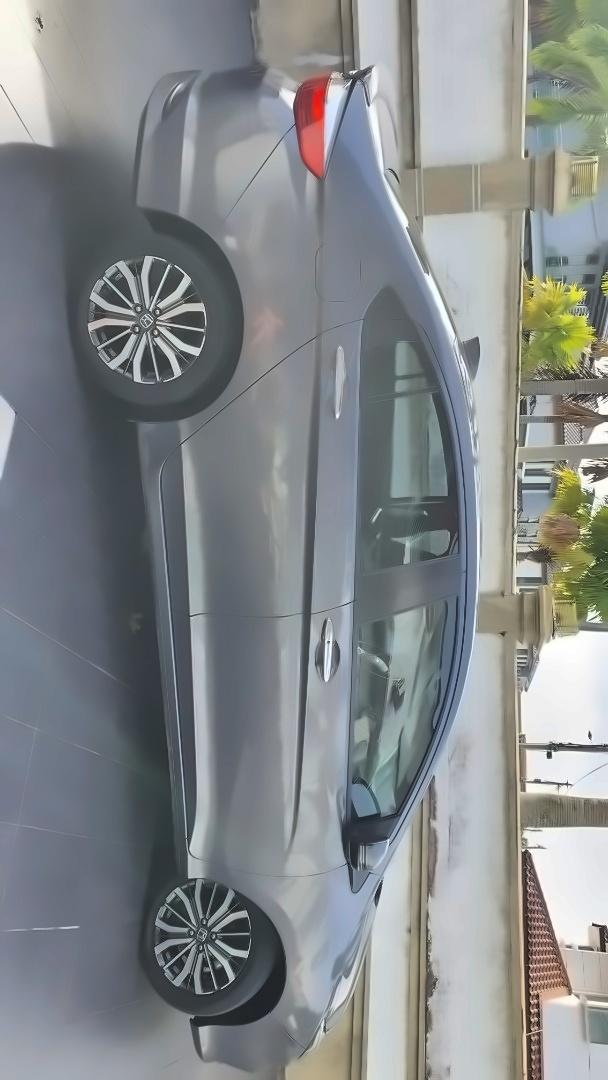Driver-s door - -F-R-: (170, 614, 468, 848)
Fender - -F-R-: (164, 850, 381, 1024)
Fender - -R-R-: (129, 128, 359, 457)
Front bumper: (176, 1022, 330, 1080)
Passenger-s door - -R-R-: (152, 314, 474, 617)
Rear bumper: (124, 48, 296, 244)
Rear light - -R-: (291, 56, 359, 193)
Side bumper - -R-: (126, 412, 207, 888)
Side mirror - -R-: (326, 770, 410, 857)
